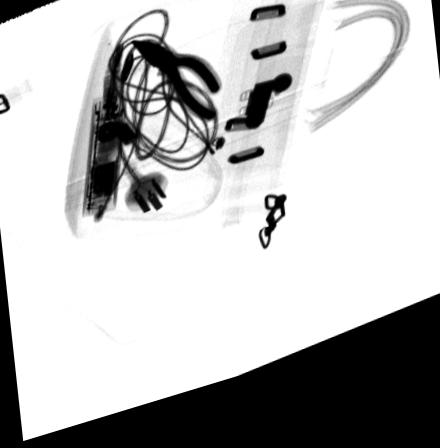Pliers: (128, 47, 221, 134)
